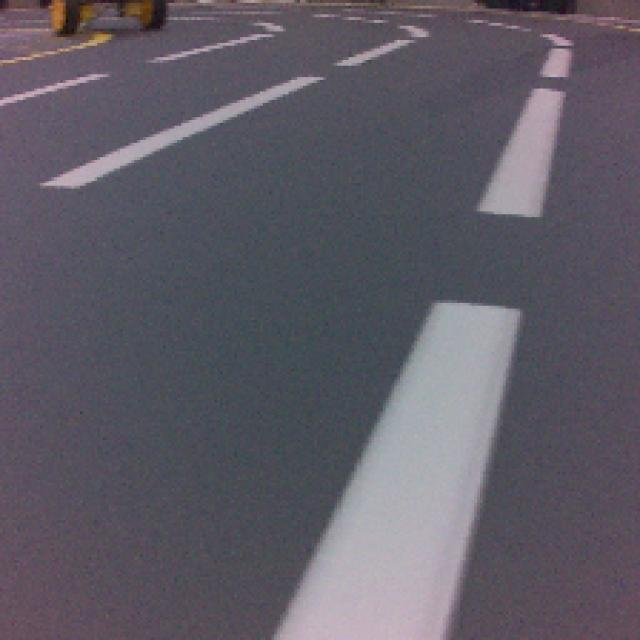Guard rail: (271, 302, 523, 640)
